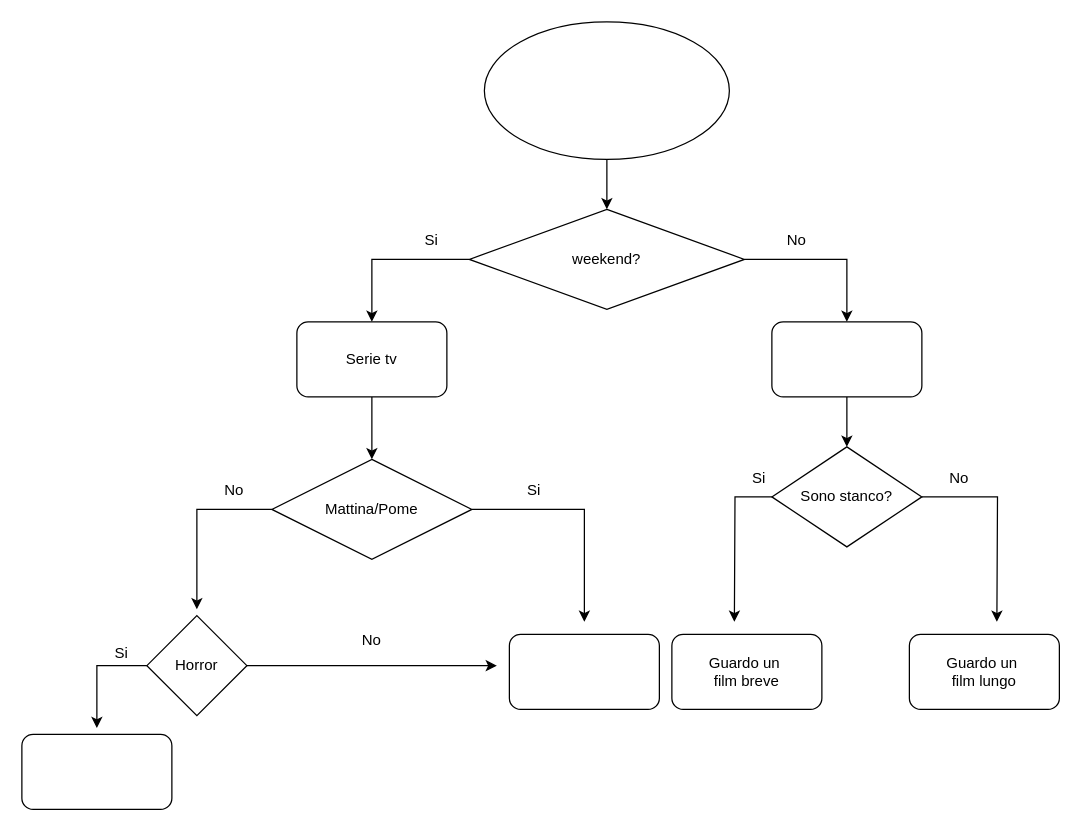
This 1081x831 diagram has some shape labels left out. The shapes that lost their labels are listed below. From the top down, each one's centre as x and y in pixels, then its label:
the point at 606,90: Accedere a netflix: Dati: giorni della settimana
the point at 846,359: Guardo un film
the point at 583,671: Genere libero
the point at 96,771: Guardo un Horror
